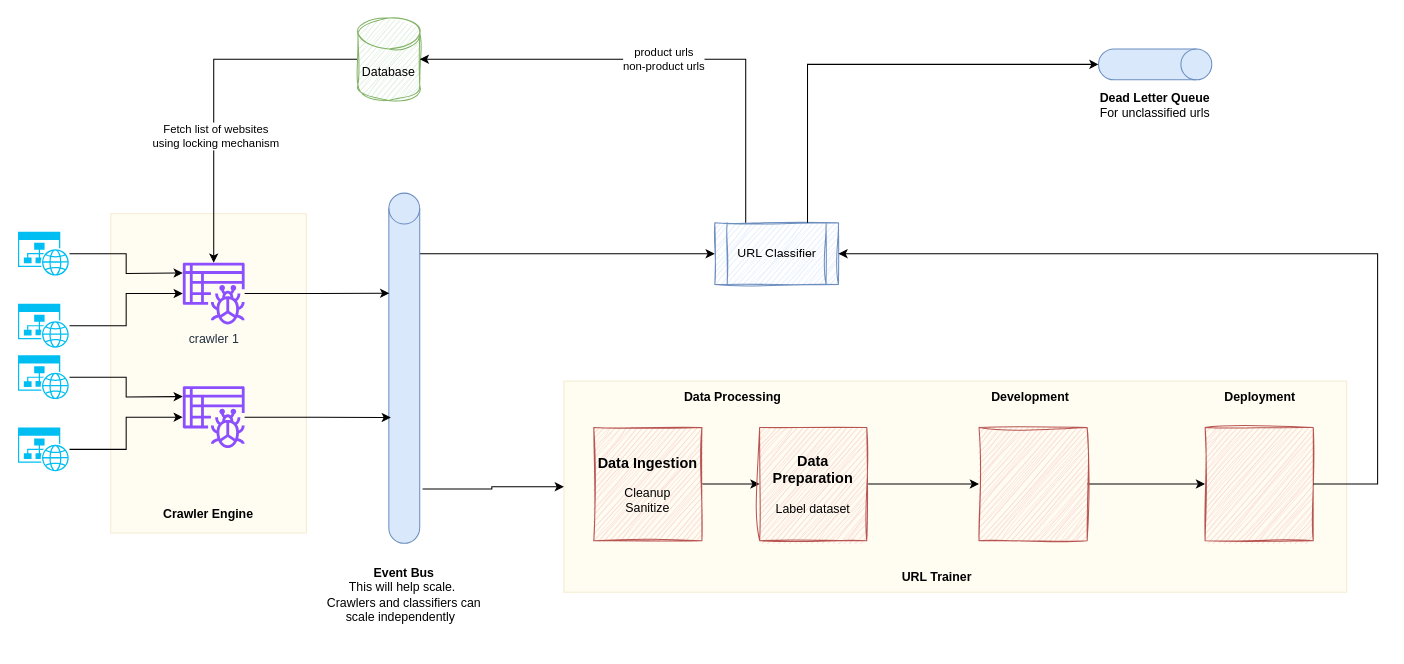
Image size: 1404x664. Some labels were removed from this diagram. Each missing label, with the centre of its shape:
crawler 2: the point at 213,417
Model Experiments Training Vectorization: the point at 1032,483
Model registry: the point at 1258,483
